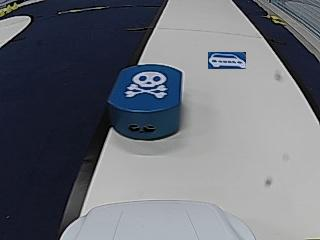danger: (125, 72, 166, 98)
